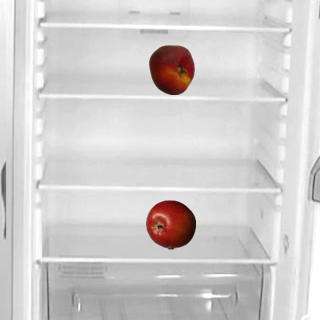Apple Braeburn: (145, 199, 195, 249)
Nectarine Flat: (146, 44, 196, 94)
